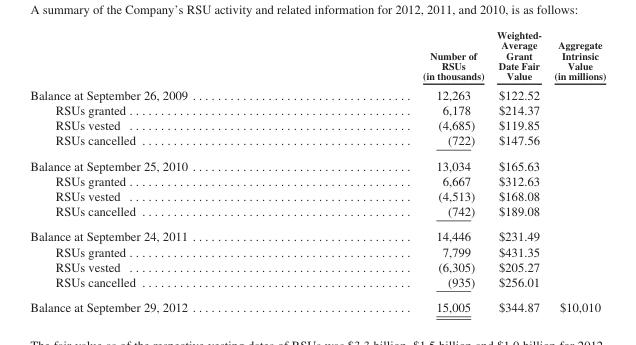table: (29, 28, 605, 313)
table column: (29, 28, 304, 313), (304, 28, 489, 313), (489, 28, 547, 313), (547, 28, 605, 313)
table column header: (29, 28, 605, 84)
table row: (29, 28, 605, 84), (29, 273, 605, 294), (29, 132, 605, 152), (29, 152, 605, 172), (29, 203, 605, 223), (29, 223, 605, 243), (29, 294, 605, 313), (29, 84, 605, 102), (29, 172, 605, 188), (29, 102, 605, 117), (29, 117, 605, 132), (29, 188, 605, 203), (29, 243, 605, 258), (29, 258, 605, 273)
